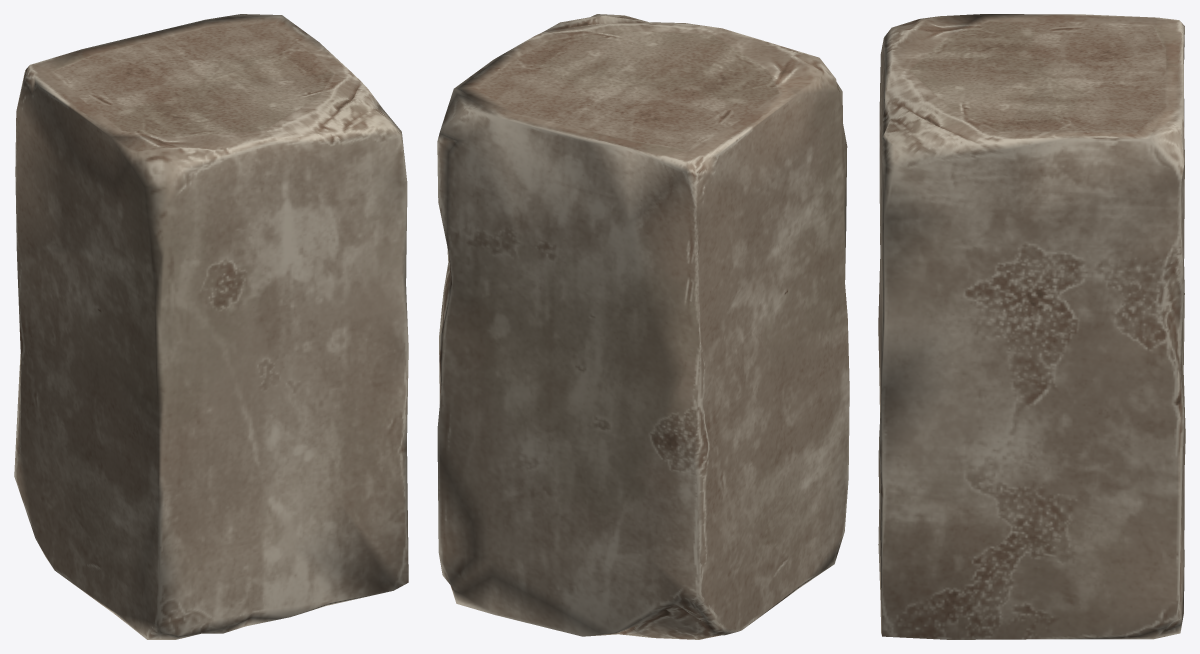
The model's file is SM_TemplePillar_Piece.fbx.
3 renders of one model, left to right at view 1: azimuth 30°, elevation 25°; view 2: azimuth 150°, elevation 25°; view 3: azimuth 270°, elevation 25°, orthographic. The views are drawn at different scales.
Visible parts, largest first — view 1: TemplePillar_Piece; view 2: TemplePillar_Piece; view 3: TemplePillar_Piece.
Part boxes in pixels (x1,y1,x2,y2): TemplePillar_Piece: [14, 14, 408, 639]; TemplePillar_Piece: [437, 14, 849, 639]; TemplePillar_Piece: [878, 14, 1185, 639].
Size of the model in its own units: 166 by 301 by 166.
